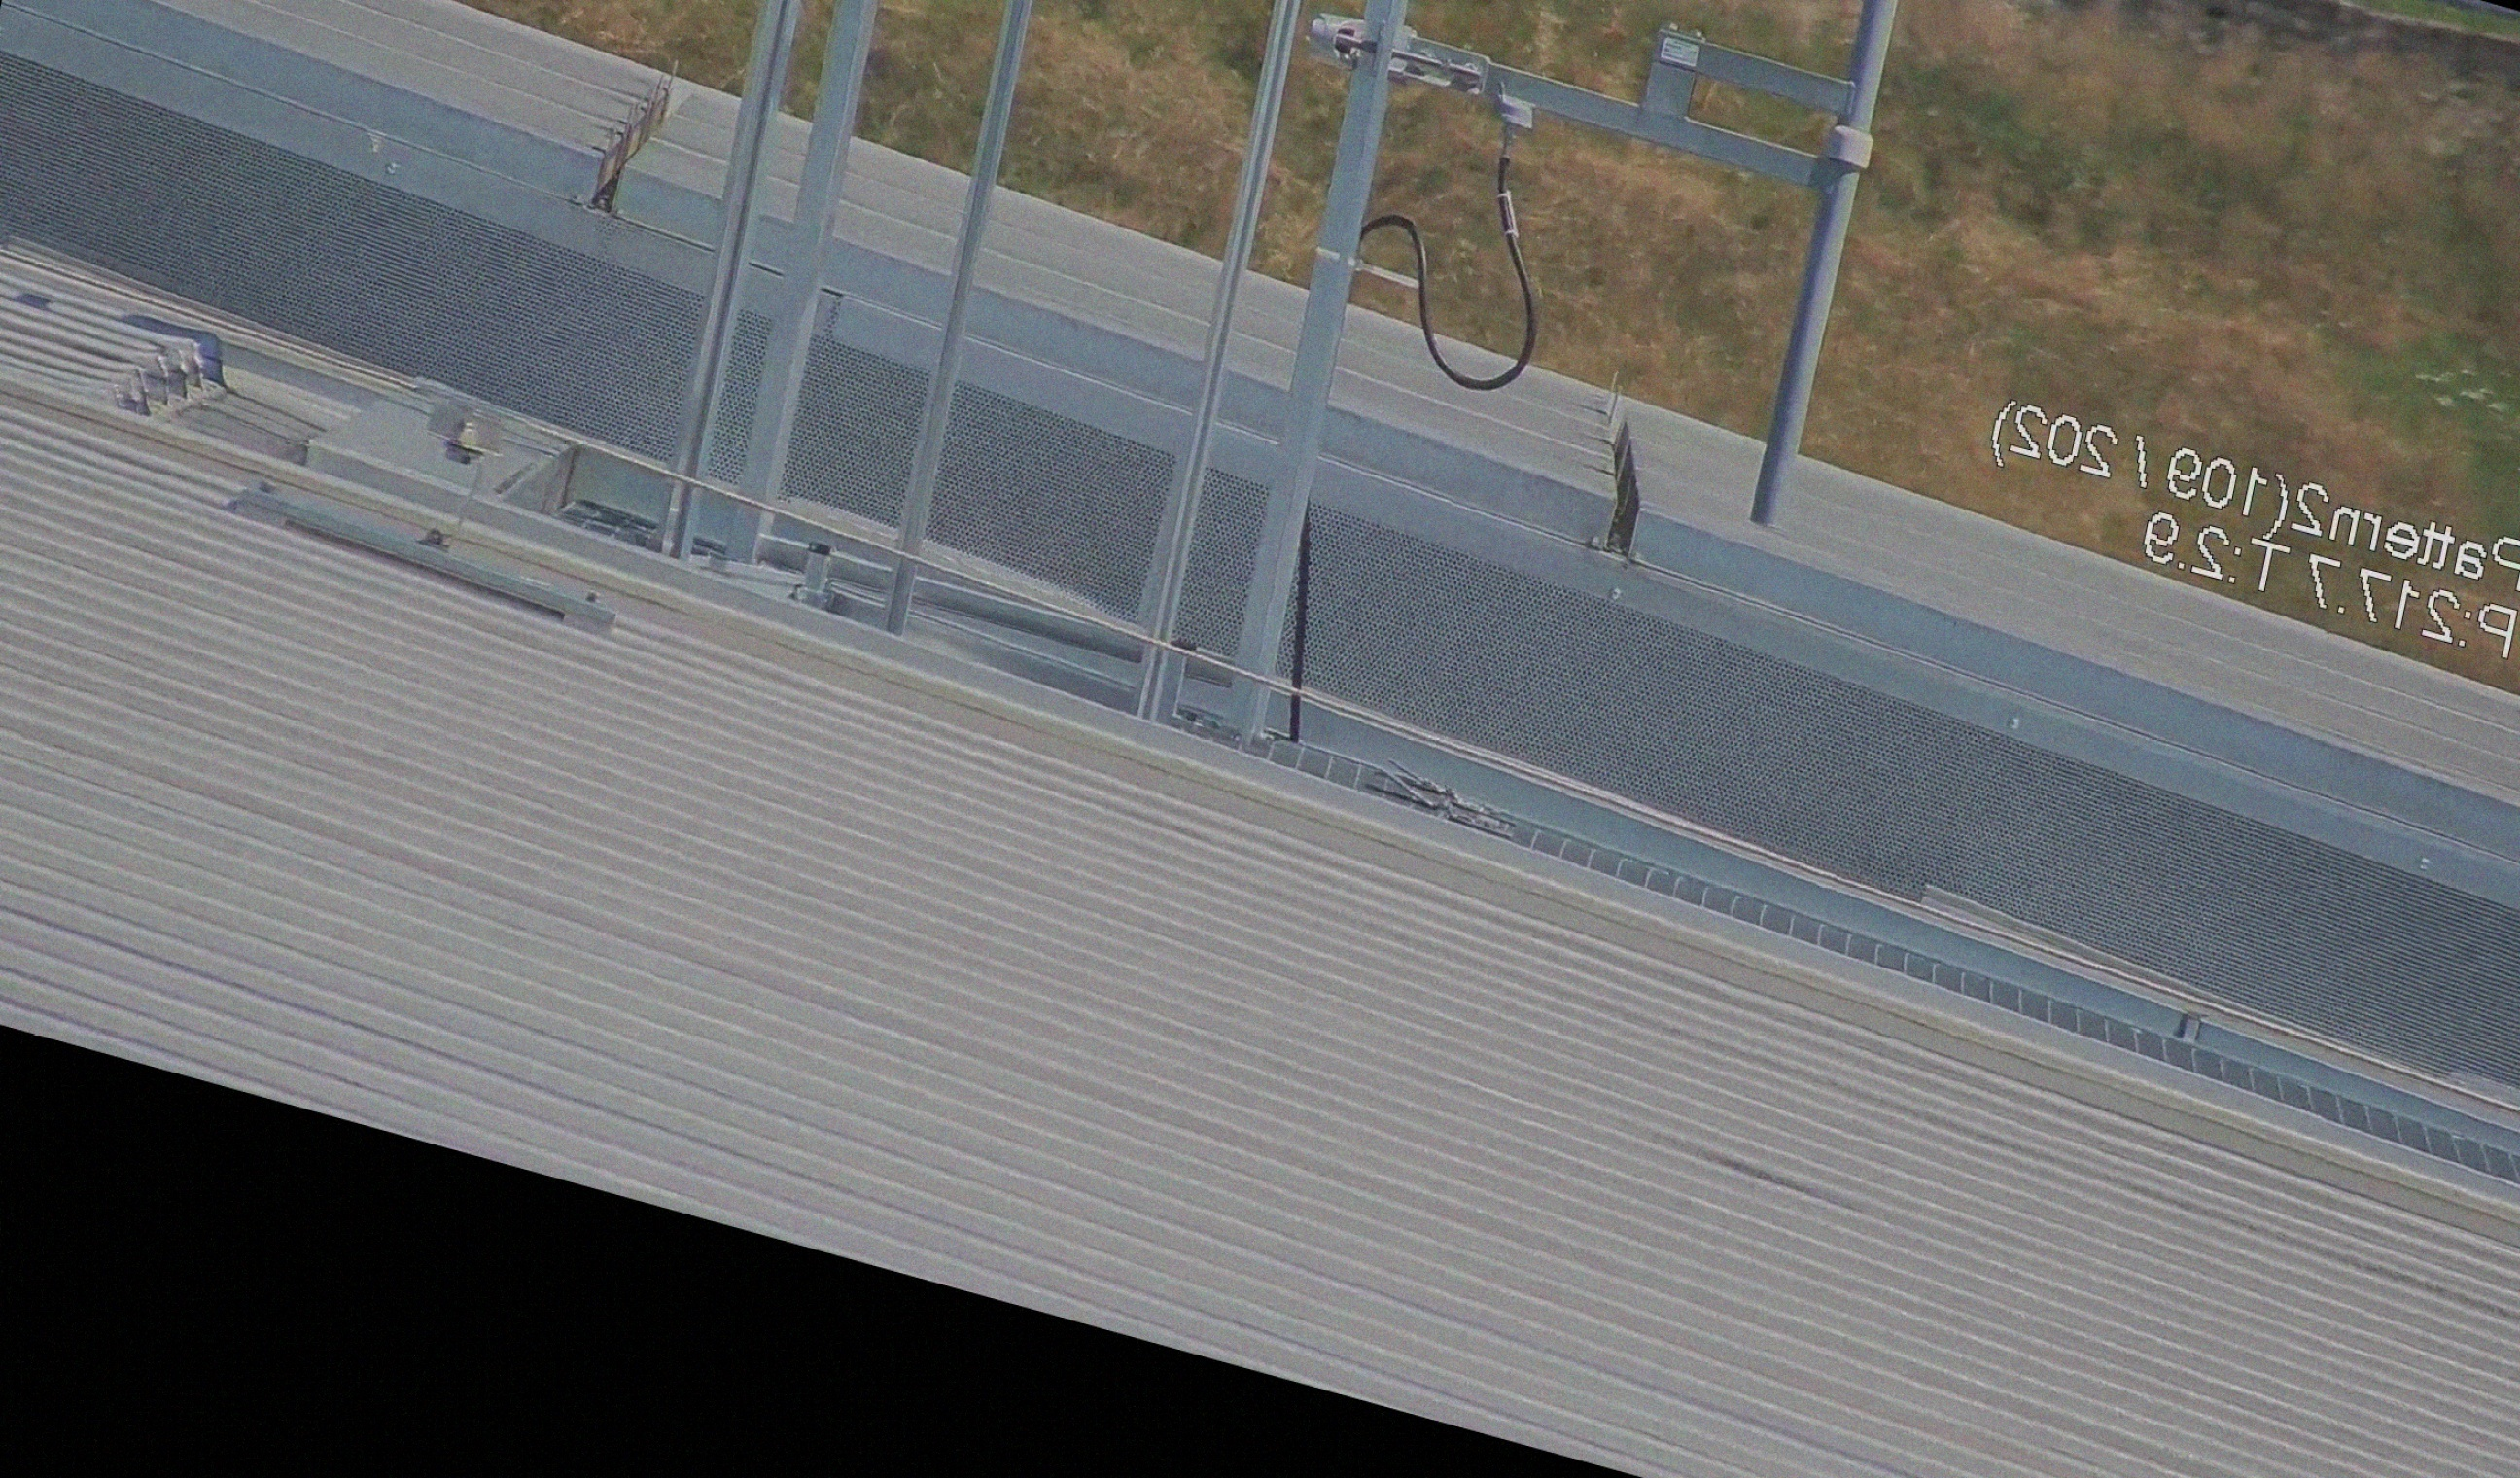Other: (1574, 394, 1683, 570)
